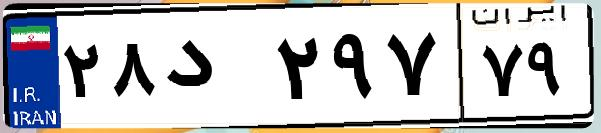2: (270, 28, 330, 110), (57, 26, 110, 100)
7: (385, 28, 445, 110), (475, 38, 525, 113)
8: (110, 28, 158, 98)
9: (330, 28, 385, 110), (525, 38, 570, 115)
د: (158, 20, 270, 120)
